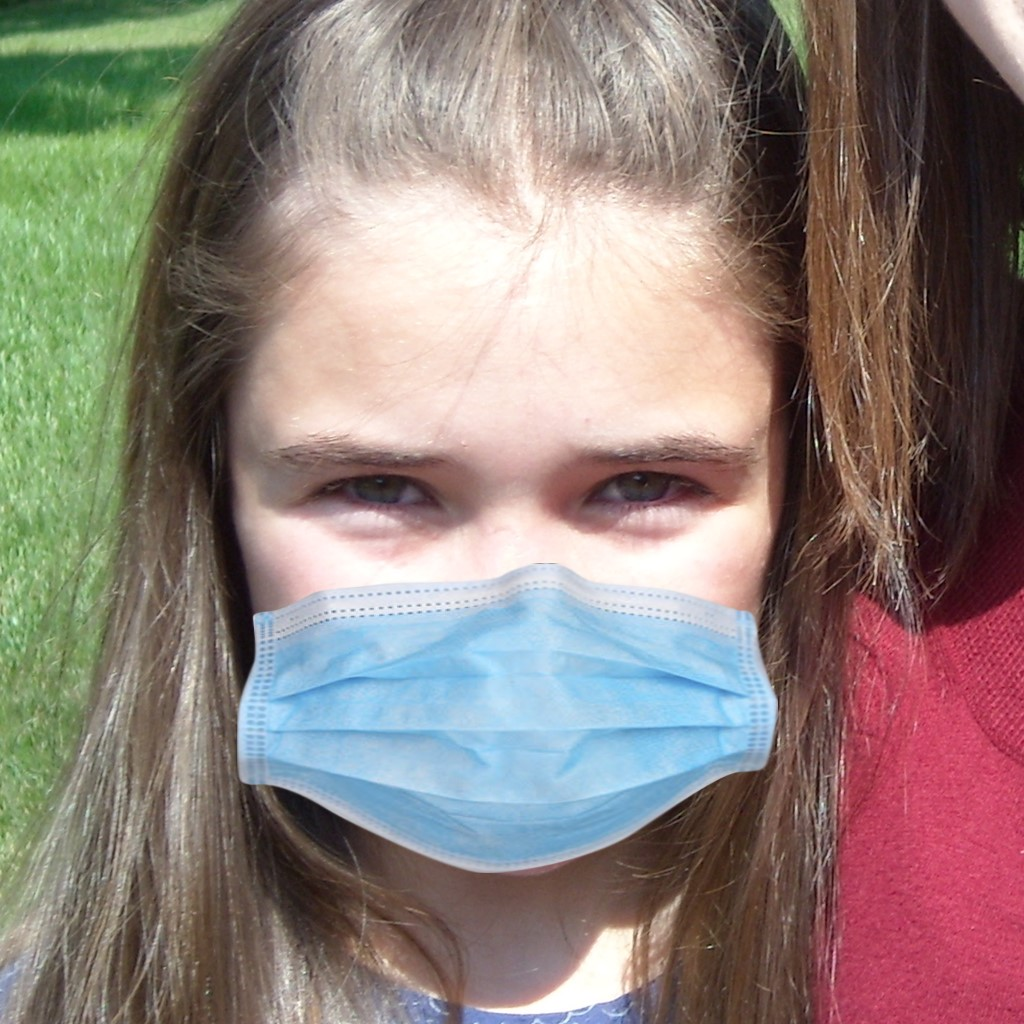con_mascara: (208, 169, 803, 900)
